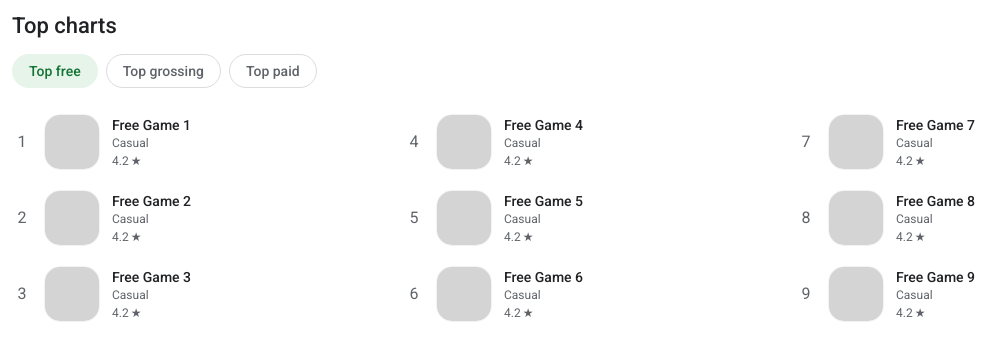
Scenario: TopCharts › switches to paid games when Top paid tab is clicked
Step 1. Click the tab "Top paid" → {"x": 273, "y": 71}, box [229,54,317,88]
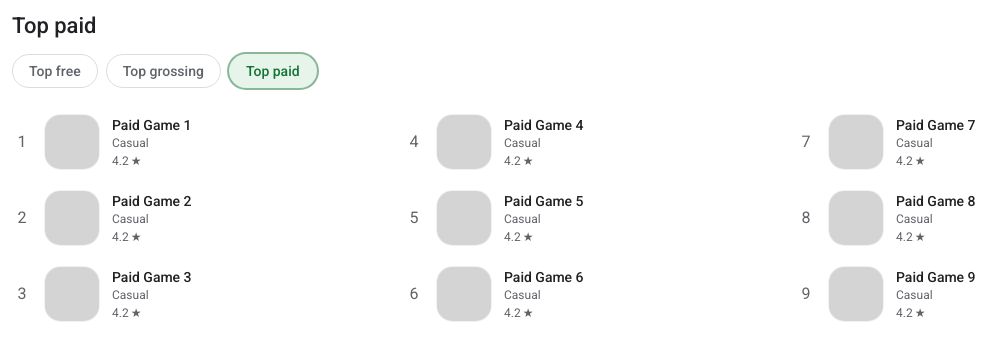
Now the text "Paid Game 1" is shown, box [112,117,192,133]
